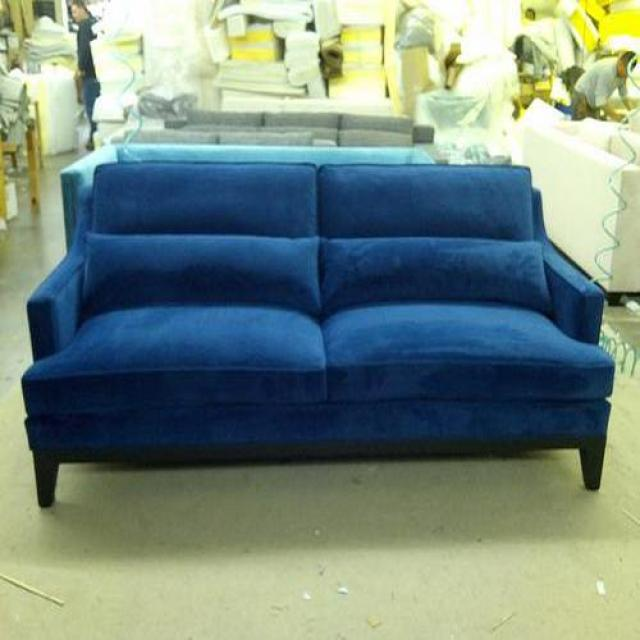sofa: (19, 143, 617, 511)
